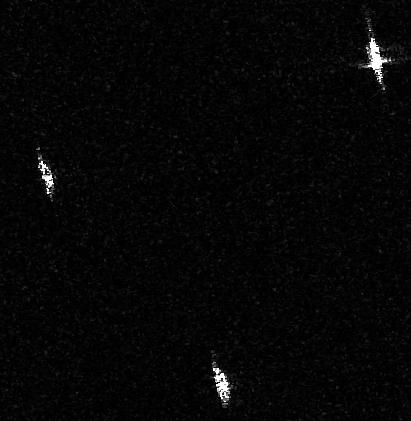ship: (206, 366, 234, 408), (363, 37, 387, 82), (34, 158, 59, 198)
